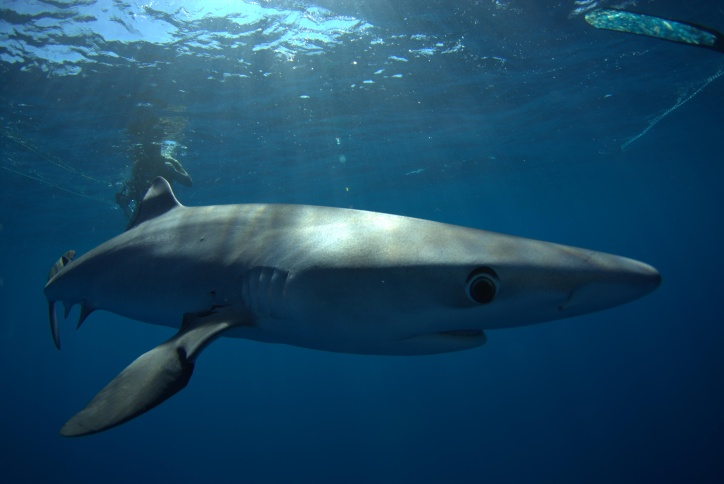Azul: (28, 160, 690, 472)
